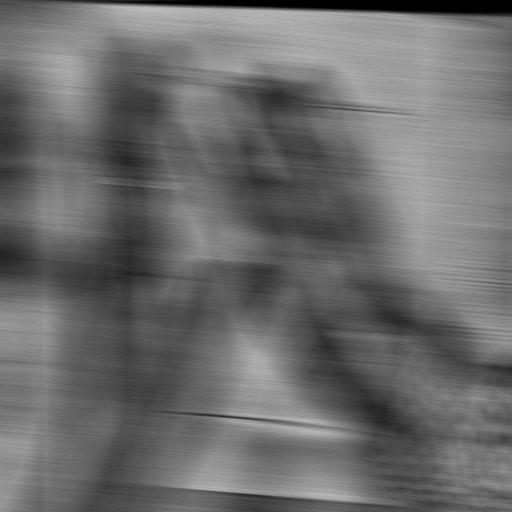bottom_left: (436, 494, 463, 505)
bottom_right: (52, 460, 81, 475)
envelop: (114, 60, 411, 450)
top_left: (456, 23, 482, 33)
